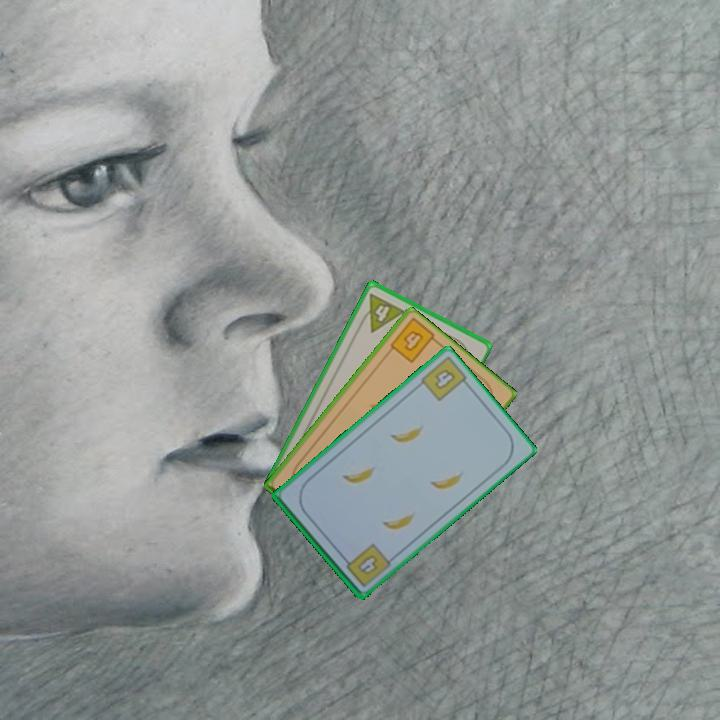4b: (338, 540, 392, 590), (431, 365, 458, 392), (400, 326, 426, 354)
4p: (355, 290, 408, 335)
